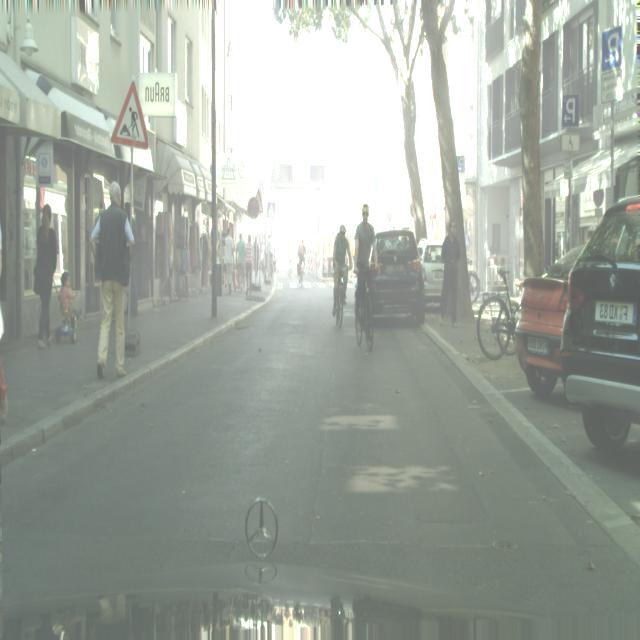car: (477, 269, 523, 360), (355, 203, 375, 351), (333, 225, 349, 328), (297, 240, 305, 288), (287, 238, 294, 279)
person: (91, 179, 135, 379), (32, 204, 58, 349), (438, 222, 460, 328), (56, 271, 81, 341), (223, 228, 235, 295), (235, 232, 245, 292), (244, 236, 254, 295)
truck: (559, 196, 640, 453), (514, 242, 588, 398), (371, 229, 426, 325)
